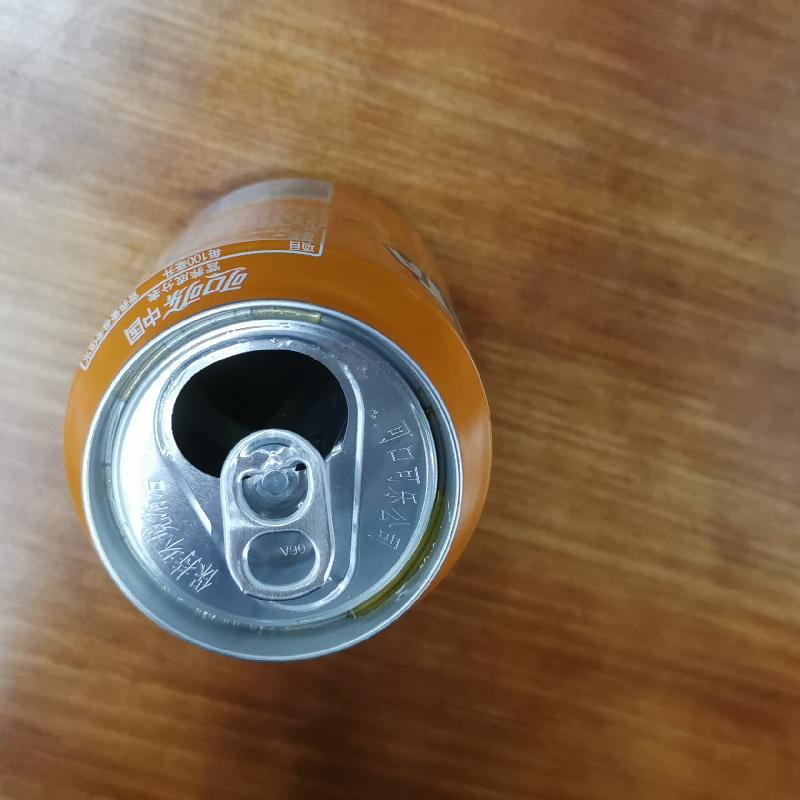cans: (55, 171, 498, 672)
